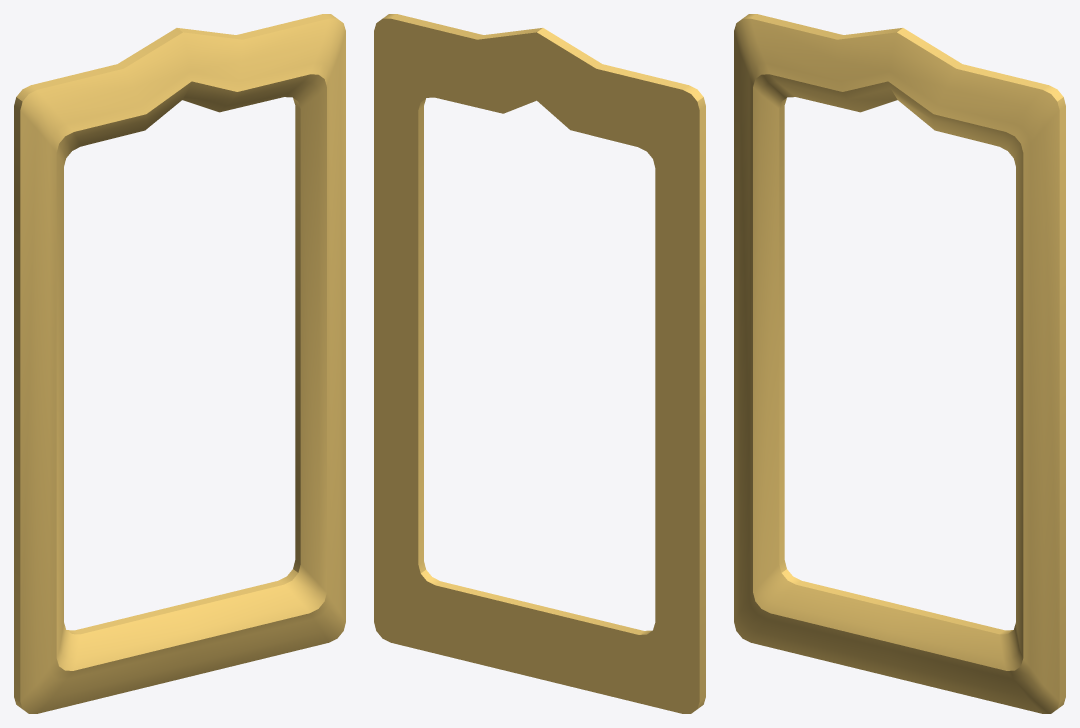
The model's file is Frame.glb.
3 views of the same model, side by side, from view 1: azimuth 30°, elevation 25°; view 2: azimuth 150°, elevation 25°; view 3: azimuth 330°, elevation 25° (orthographic).
Parts seen in each view (by area): view 1: Frame; view 2: Frame; view 3: Frame.
Part boxes in pixels (x1=…): Frame: x1=14, y1=14, x2=345, y2=713; Frame: x1=374, y1=14, x2=705, y2=713; Frame: x1=734, y1=14, x2=1065, y2=713.
Size of the model in its own units: 2.76 by 5.22 by 0.2197.
